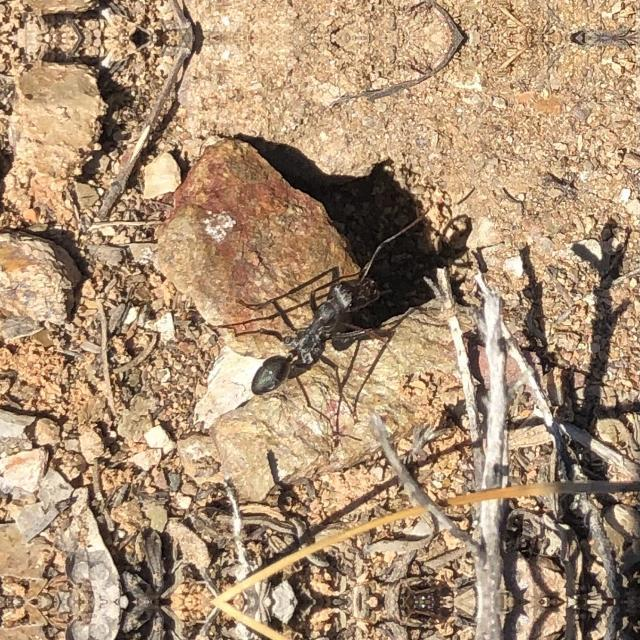Cataglyphis: (221, 255, 403, 422)
